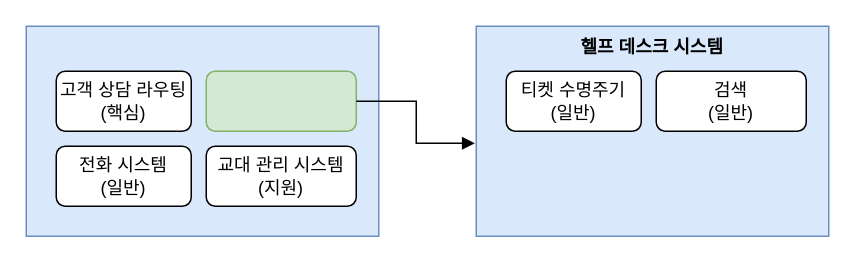
This 855x263 diagram has some shape labels left out. The shapes that lost their labels are listed below. From the top down, each one's box as (x1, y1, x2, y2) in pixels, then its label:
(205, 70, 356, 131): 헬프 데스크 시스템 (일반)
(25, 25, 379, 236): 고객 서비스
